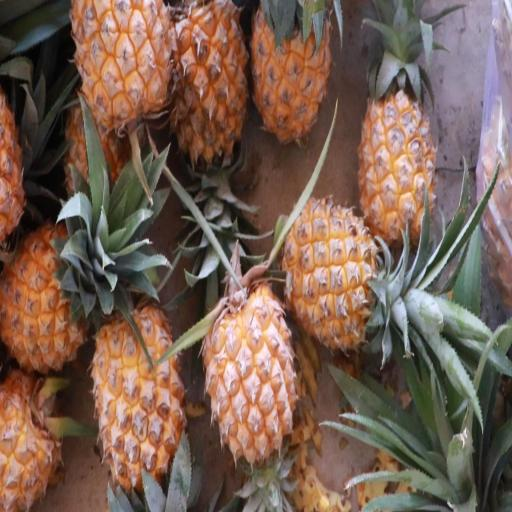Pineapple - v8 v1: (356, 6, 442, 248), (87, 292, 188, 494), (202, 276, 302, 468), (278, 191, 390, 356), (67, 0, 175, 145), (162, 0, 255, 165), (3, 216, 92, 384), (246, 0, 333, 149), (2, 359, 65, 512)
